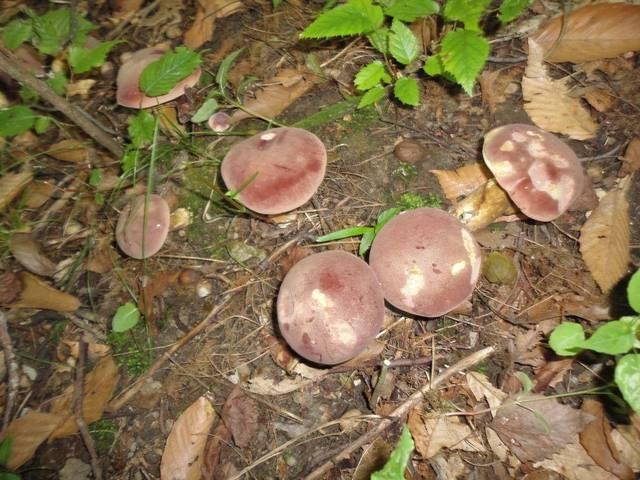Non-edible Mushroom: (274, 248, 385, 366), (368, 206, 482, 319), (480, 122, 585, 222), (219, 125, 327, 215), (111, 189, 195, 273), (114, 44, 202, 110)
